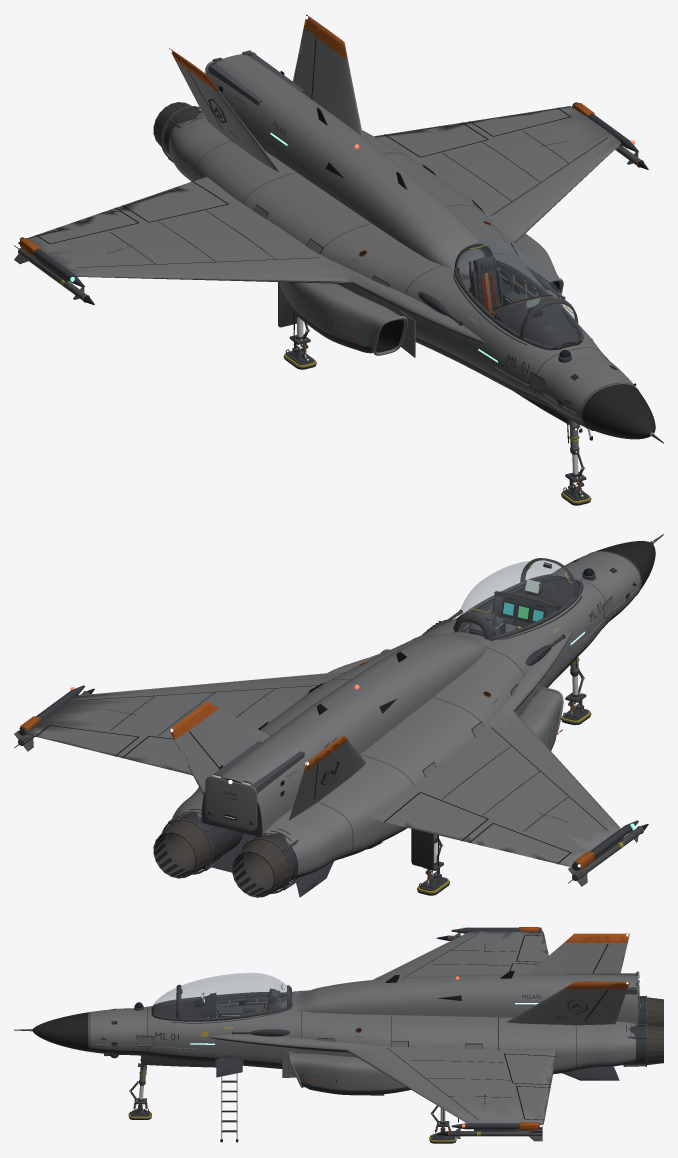
File: Milan.3fa4cce866.glb
3 renders of one model, top to bottom at view 1: azimuth 30°, elevation 25°; view 2: azimuth 150°, elevation 25°; view 3: azimuth 270°, elevation 25°, orthographic. The views are drawn at different scales.
Parts seen in each view (by area): view 1: Einlaufschaufel links.001, Kanzelglas.001, Rumpf.004, Blendschutzdeck.001, Hauptfuge.005, Bauchflosse links.001, Holmfuge.004, Abstandshalter.006, Einlauflippe.002, Absaugloch.040, Seitenleitwerk links.001, Klappe.014 (+3 smaller); view 2: Einlaufschaufel links.001, Kanzelglas.001, Brennkammer.002, Abstandshalter.006, Klappe.013, Hauptfuge.005, Holmfuge.004, Bauchflosse links.001, Blendschutzdeck.001, Absaugloch.040, Rumpf.004, Seitenleitwerk links.001 (+6 smaller); view 3: Einlaufschaufel links.001, Kanzelglas.001, Bauchflosse links.001, Abstandshalter.006, Rumpf.004, Hauptfuge.005, Brennkammer.002, Blendschutzdeck.001, Holmfuge.004, Seitenleitwerk links.001, Klappe.014, Canard.008 (+6 smaller).
Boxes of the visible parts, bbox=[...] form: Einlaufschaufel links.001: bbox=[27, 28, 636, 422]; Kanzelglas.001: bbox=[457, 240, 580, 347]; Rumpf.004: bbox=[582, 384, 655, 439]; Blendschutzdeck.001: bbox=[453, 265, 582, 347]; Hauptfuge.005: bbox=[195, 141, 638, 430]; Bauchflosse links.001: bbox=[77, 165, 597, 428]; Holmfuge.004: bbox=[35, 38, 608, 394]; Abstandshalter.006: bbox=[18, 54, 638, 430]; Einlauflippe.002: bbox=[78, 143, 620, 413]; Absaugloch.040: bbox=[219, 71, 636, 407]; Seitenleitwerk links.001: bbox=[169, 14, 347, 91]; Klappe.014: bbox=[254, 205, 544, 393]; Einlaufschaufel links.001: bbox=[24, 551, 641, 875]; Kanzelglas.001: bbox=[458, 560, 580, 637]; Brennkammer.002: bbox=[153, 559, 629, 897]; Abstandshalter.006: bbox=[18, 575, 638, 889]; Klappe.013: bbox=[205, 776, 257, 830]; Hauptfuge.005: bbox=[198, 551, 641, 858]; Holmfuge.004: bbox=[35, 596, 613, 864]; Bauchflosse links.001: bbox=[187, 582, 639, 897]; Blendschutzdeck.001: bbox=[453, 577, 582, 640]; Absaugloch.040: bbox=[155, 559, 636, 896]; Rumpf.004: bbox=[596, 541, 655, 589]; Seitenleitwerk links.001: bbox=[169, 701, 347, 771]; Einlaufschaufel links.001: bbox=[88, 930, 637, 1124]; Kanzelglas.001: bbox=[152, 973, 293, 1017]; Bauchflosse links.001: bbox=[88, 1037, 635, 1110]; Abstandshalter.006: bbox=[110, 927, 645, 1129]; Rumpf.004: bbox=[32, 1012, 88, 1051]; Hauptfuge.005: bbox=[89, 984, 576, 1070]; Brennkammer.002: bbox=[104, 997, 663, 1064]; Blendschutzdeck.001: bbox=[156, 993, 284, 1023]; Holmfuge.004: bbox=[136, 933, 608, 1120]; Seitenleitwerk links.001: bbox=[564, 933, 629, 989]; Klappe.014: bbox=[137, 1036, 481, 1077]; Canard.008: bbox=[448, 930, 542, 1141].
Size of the model in its own units: 11.55 by 4.28 by 15.82.
